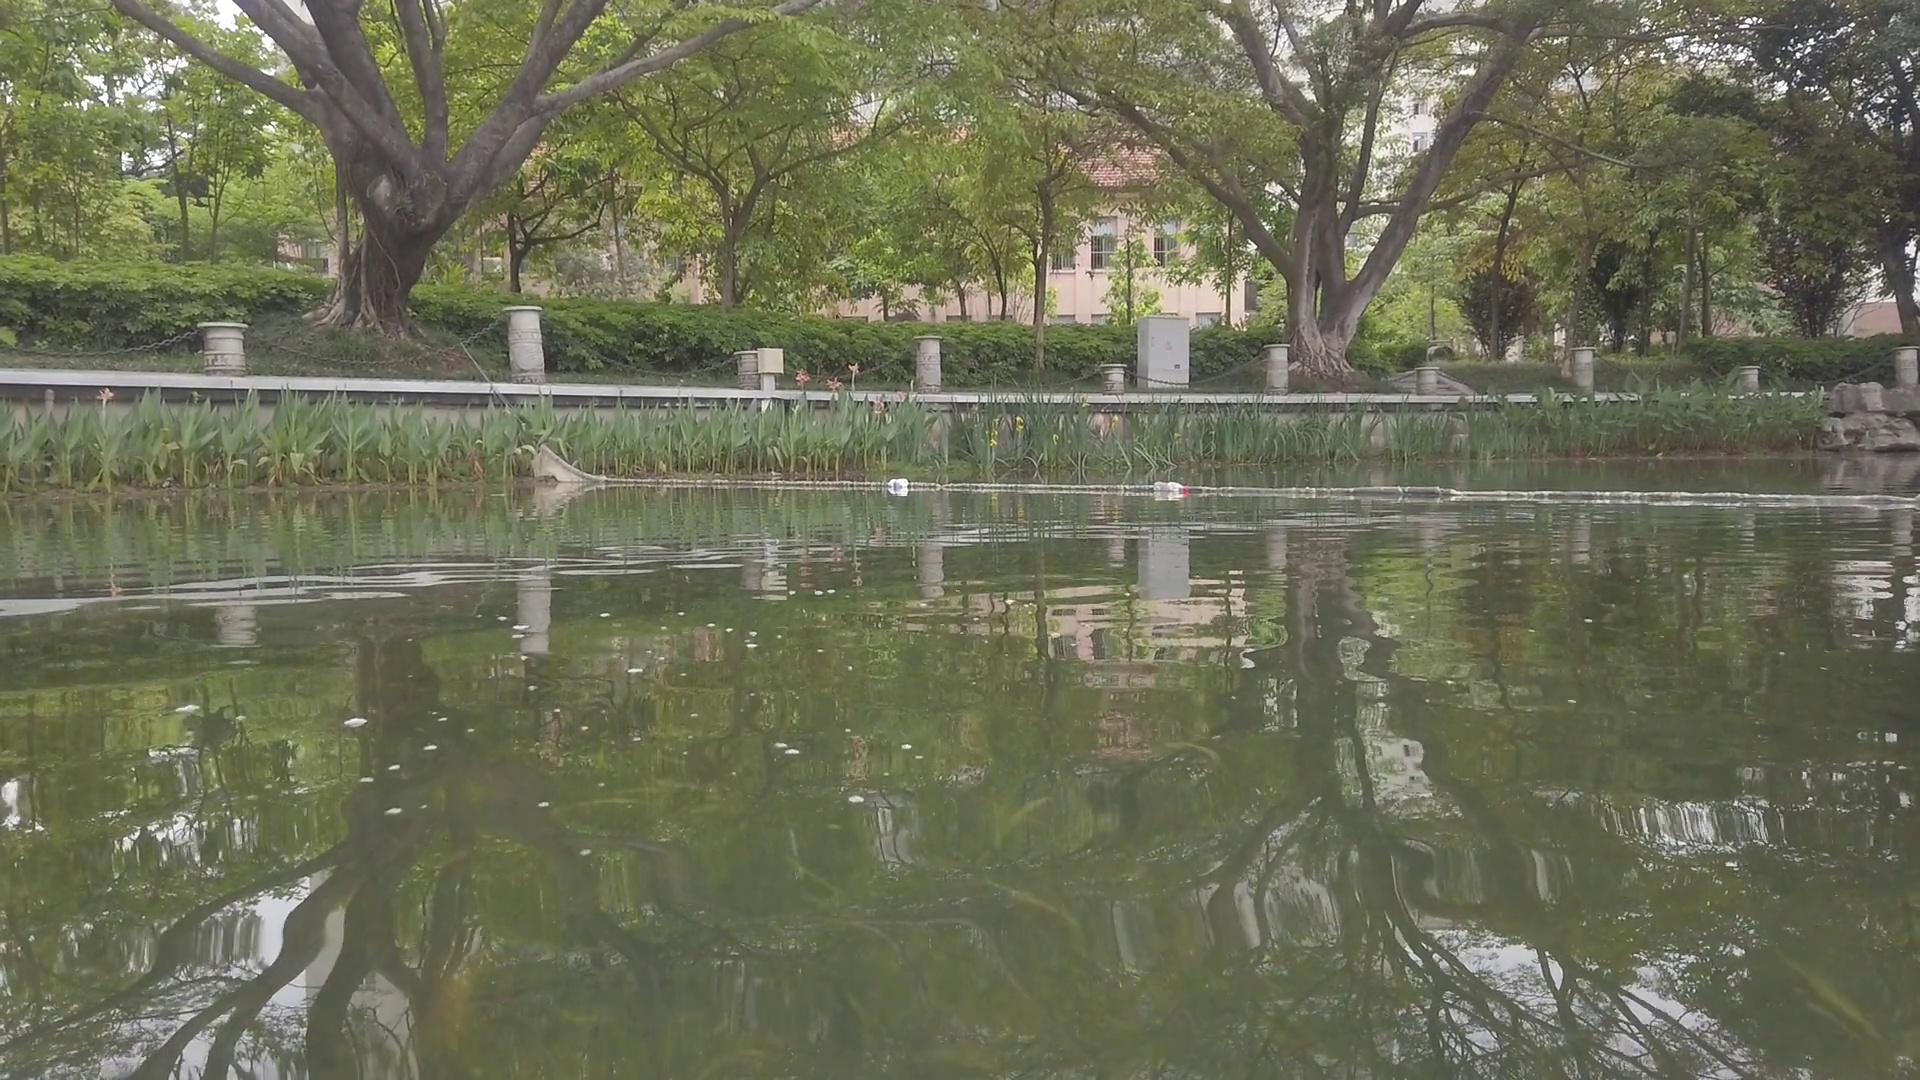bottle: (1155, 480, 1188, 495), (887, 476, 911, 491)
